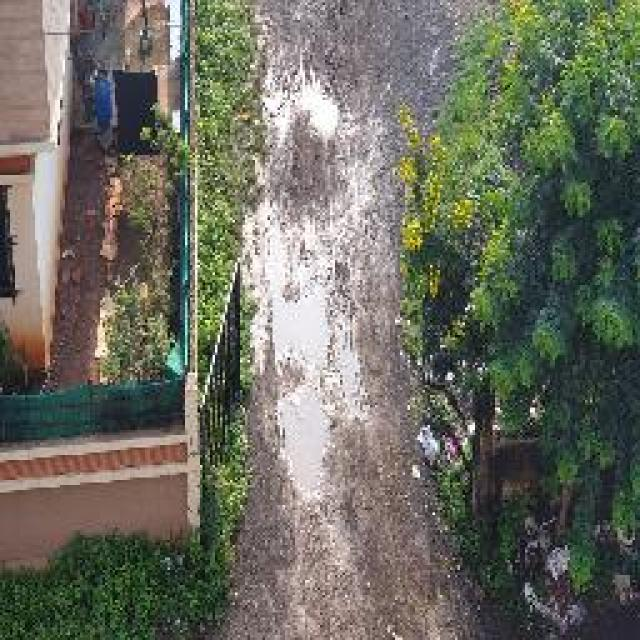waterlogging: (220, 111, 402, 499)
